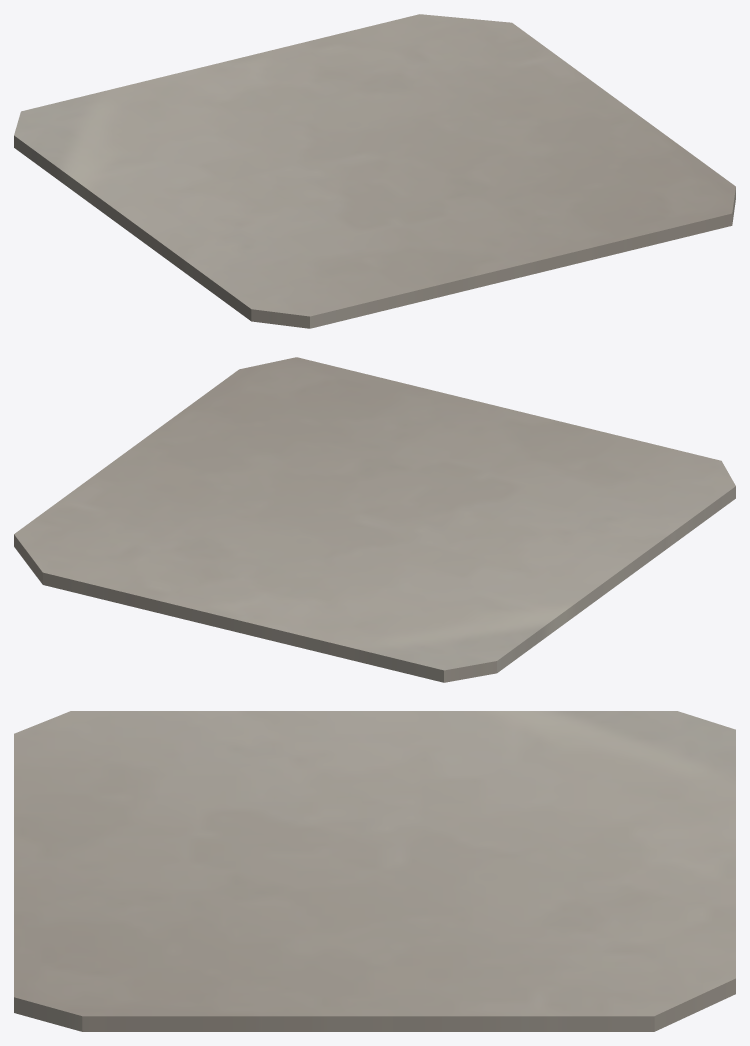
Rendered from floor.fbx.
3 views of the same model, one above another, from view 1: azimuth 30°, elevation 25°; view 2: azimuth 150°, elevation 25°; view 3: azimuth 270°, elevation 25° (orthographic). The views are drawn at different scales.
Parts seen in each view (by area): view 1: Plane; view 2: Plane; view 3: Plane.
Boxes of the visible parts, x1=… form: Plane: x1=14, y1=14, x2=735, y2=328; Plane: x1=14, y1=357, x2=735, y2=682; Plane: x1=14, y1=711, x2=735, y2=1031.
Size of the model in its own units: 4397 by 106 by 4397.
Materials: 1 (1 with a texture image).
